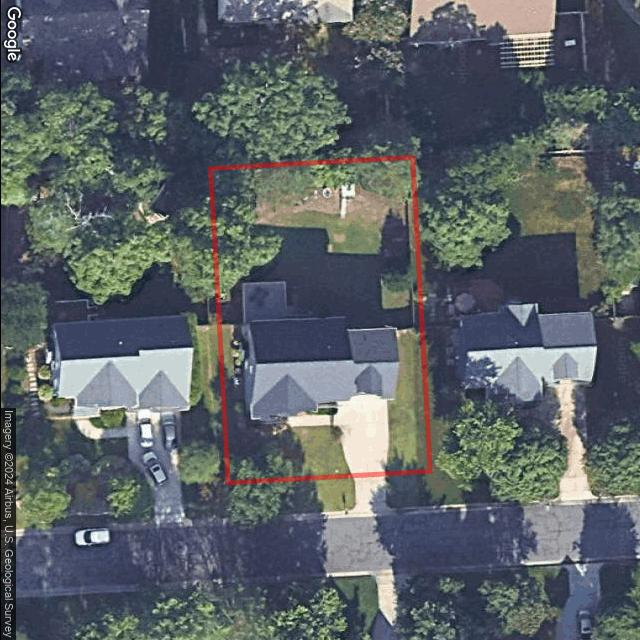Driveway: (336, 395, 389, 478)
Extra-Driveway: (349, 475, 388, 512)
Extra-Lawn: (227, 477, 354, 516), (383, 470, 431, 510)
House: (246, 317, 401, 420)
Lawn: (209, 158, 429, 482)
Other: (241, 282, 287, 322), (229, 334, 242, 389)
Sidewalk: (286, 414, 338, 427)
